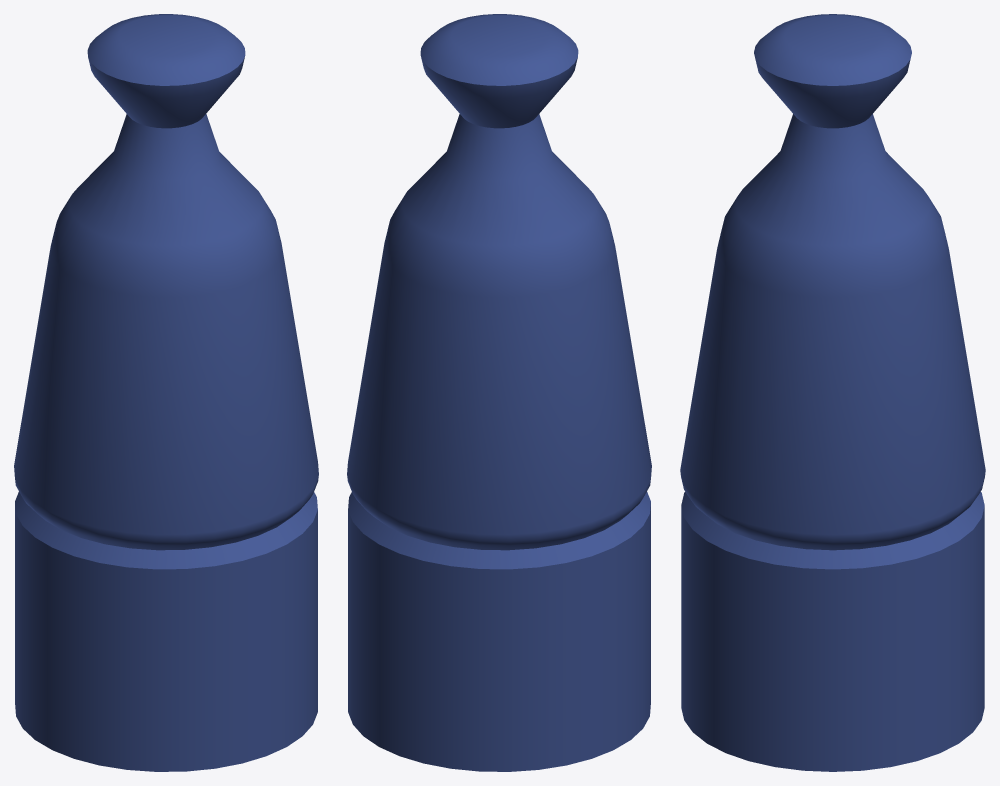
The model's file is bottle37.glb.
The picture shows the model from 3 angles, left to right: view 1: azimuth 30°, elevation 25°; view 2: azimuth 150°, elevation 25°; view 3: azimuth 270°, elevation 25°; orthographic projection.
Visible parts, largest first — view 1: Bottle37; view 2: Bottle37; view 3: Bottle37.
Part boxes in pixels (x1,y1,x2,y2): Bottle37: (14, 14, 318, 771); Bottle37: (347, 14, 651, 771); Bottle37: (680, 14, 985, 771).
Bounding box in the file's own units: 1.04 × 2.53 × 1.04.
